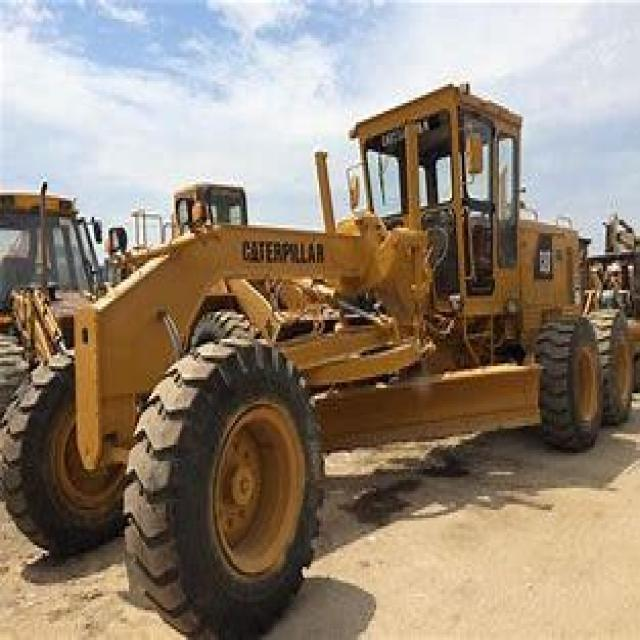Grader: (10, 62, 636, 638)
